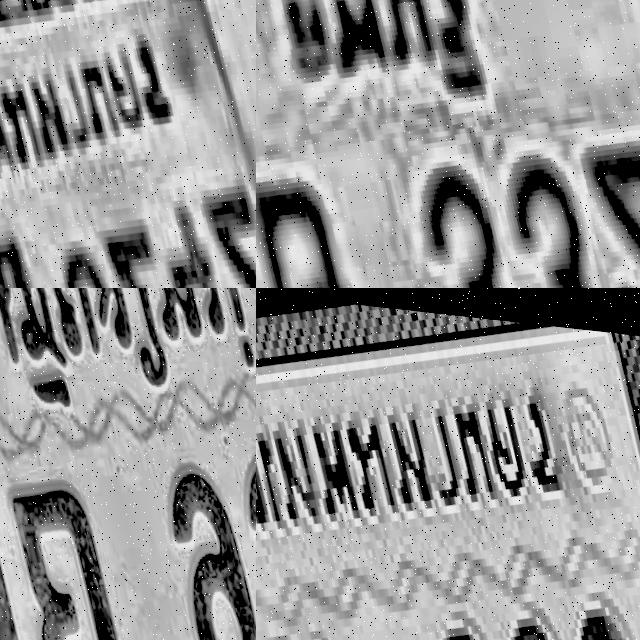license-plate: (256, 288, 640, 640), (256, 0, 640, 288), (0, 288, 256, 640), (0, 0, 256, 288)
